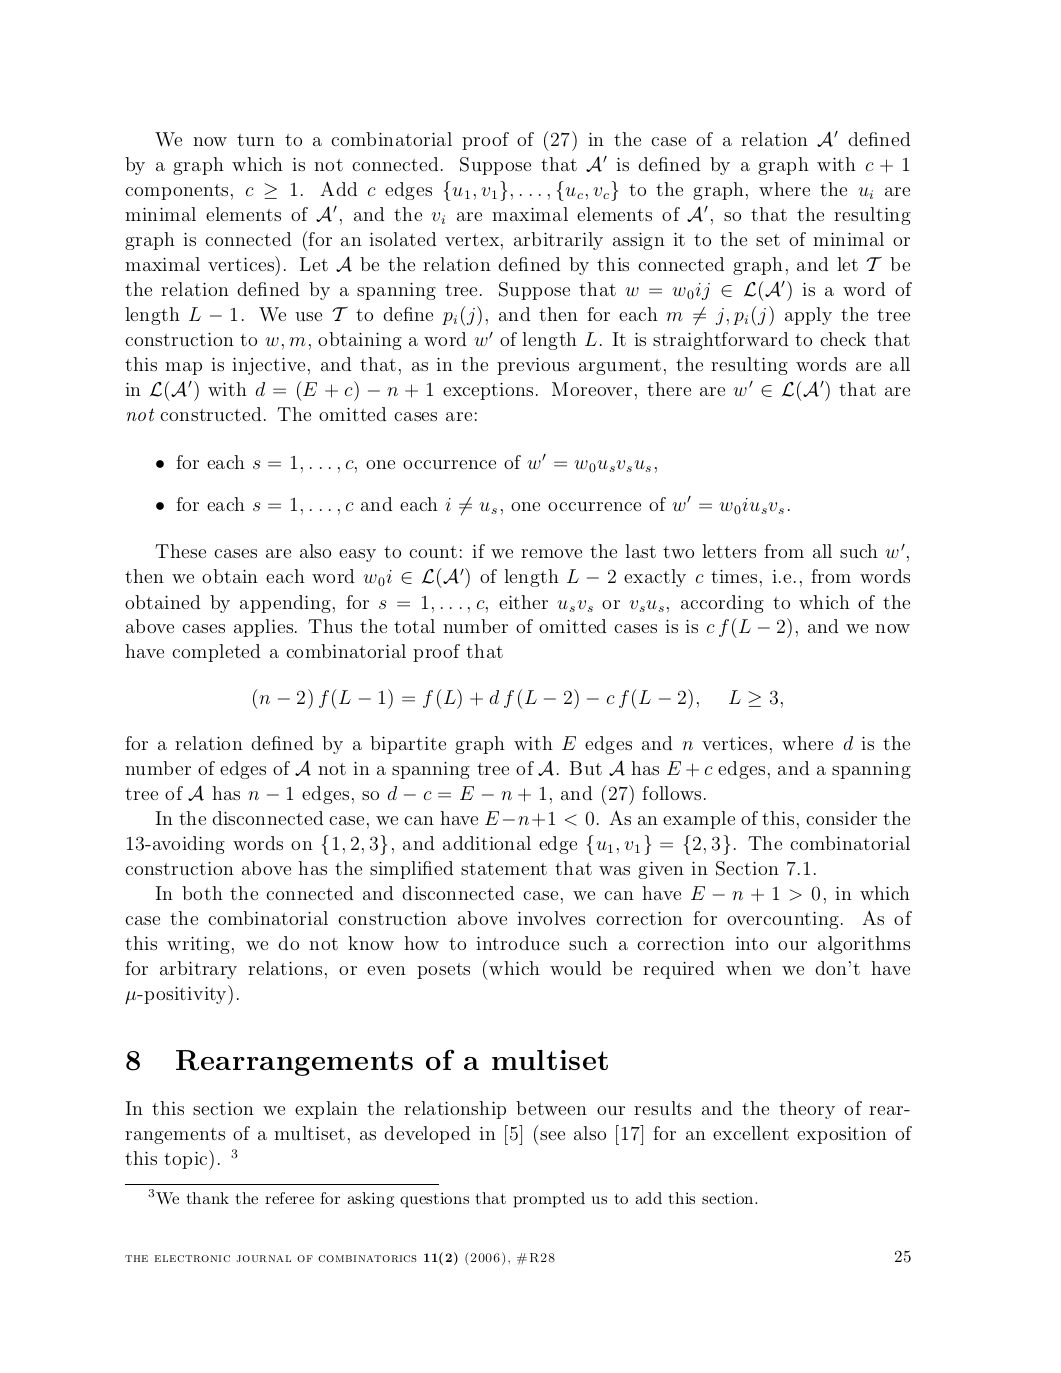formula: (253, 688, 782, 709)
